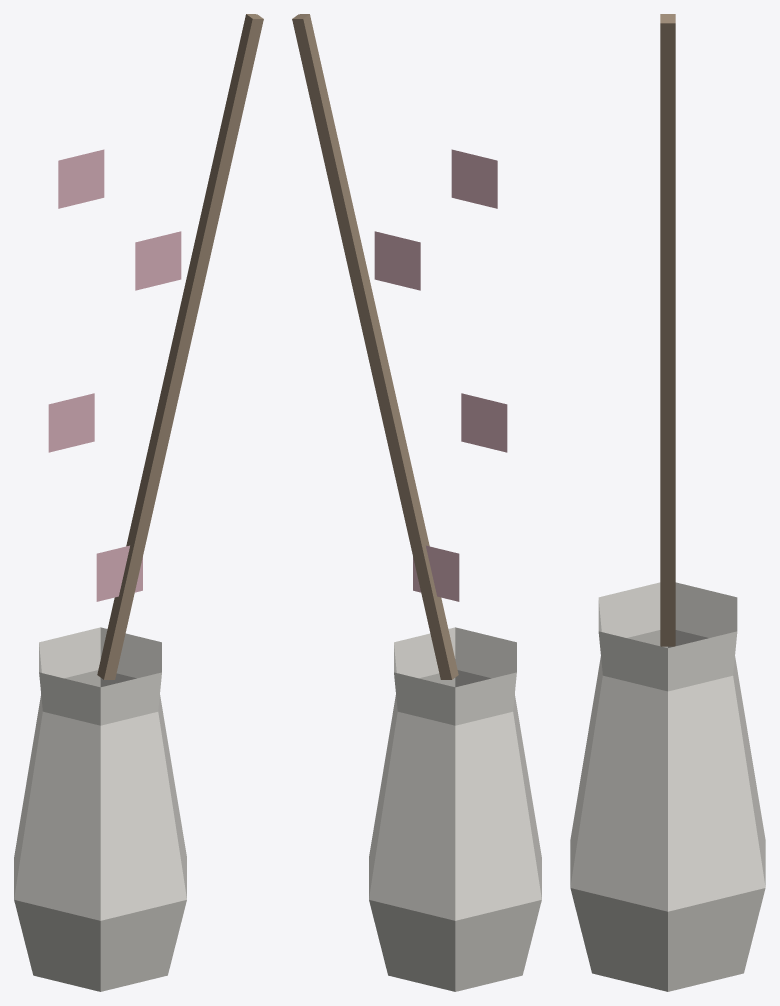
Rendered from LoHoaDung.glb.
3 renders of one model, left to right at view 1: azimuth 30°, elevation 25°; view 2: azimuth 150°, elevation 25°; view 3: azimuth 270°, elevation 25°, orthographic. The views are drawn at different scales.
Parts seen in each view (by area): view 1: geometry_0; view 2: geometry_0; view 3: geometry_0.
Part boxes in pixels (x1,y1,x2,y2): geometry_0: [14, 14, 263, 991]; geometry_0: [292, 14, 541, 991]; geometry_0: [570, 14, 765, 991].
Bounding box in the file's own units: 0.1282 × 0.4605 × 0.0779.
Materials: 1 (1 with a texture image).
